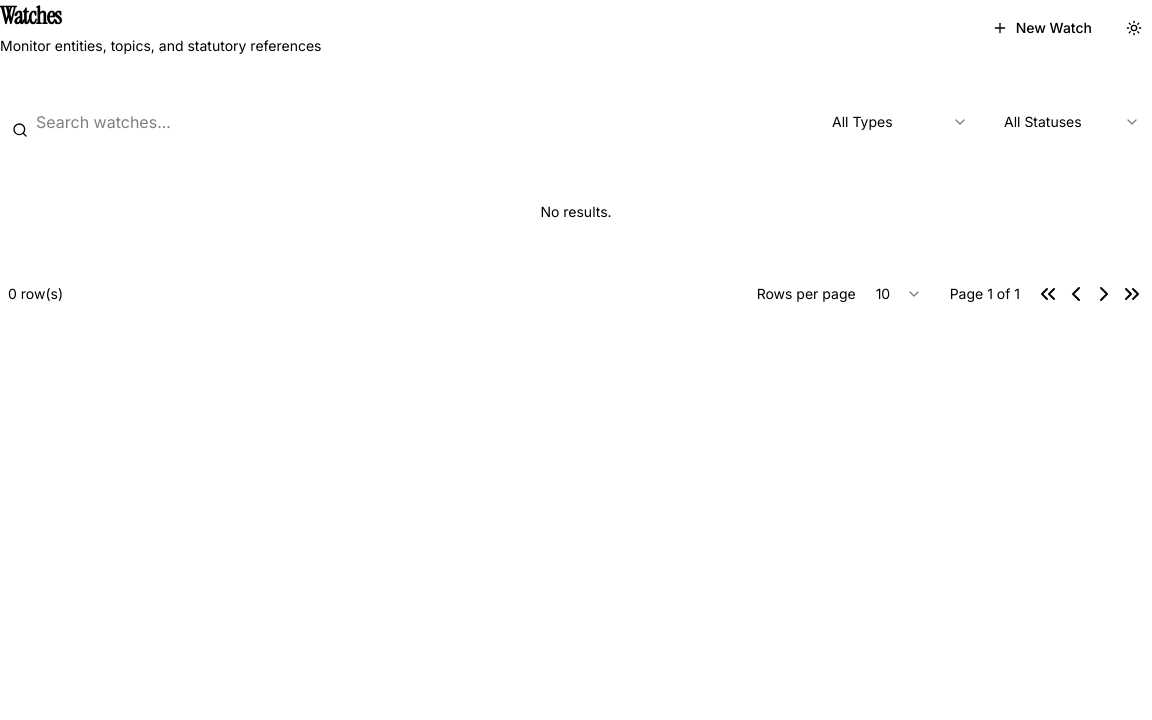
Test: WatchesContent › has dialog container with 'Create New Watch' title
Click the button "New Watch" at coordinates (1042, 28), box [976,10,1108,46]
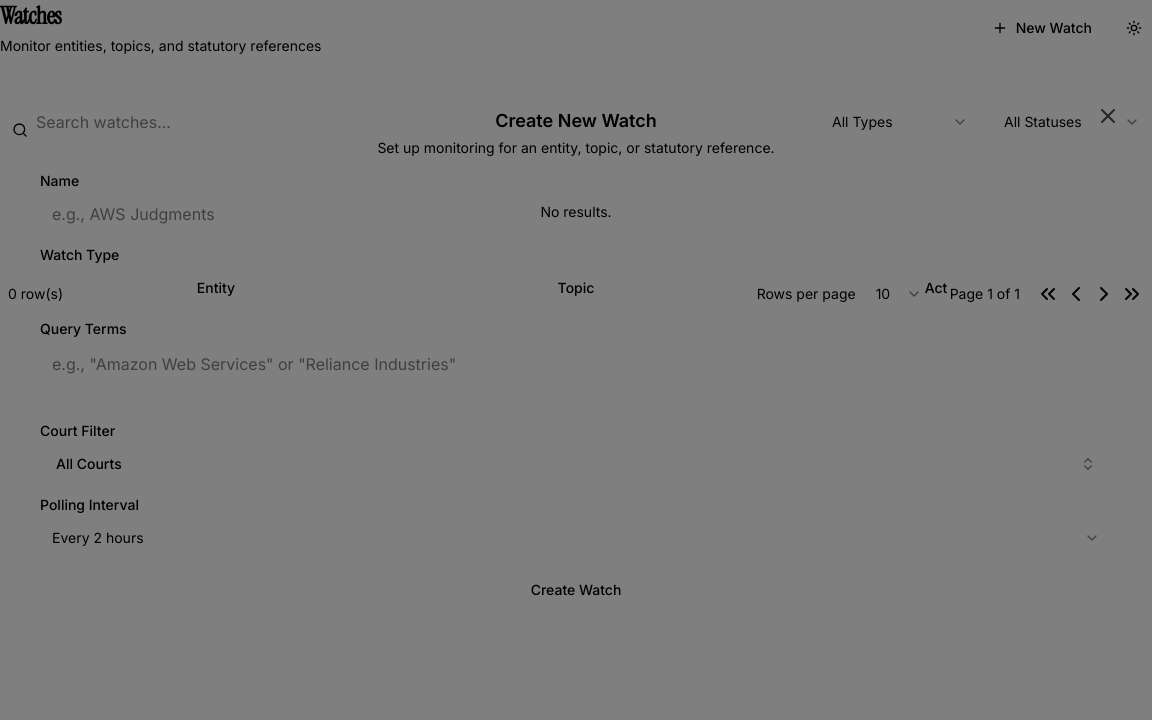
Expected: the heading "Create New Watch" is shown, [495,110,657,131]
